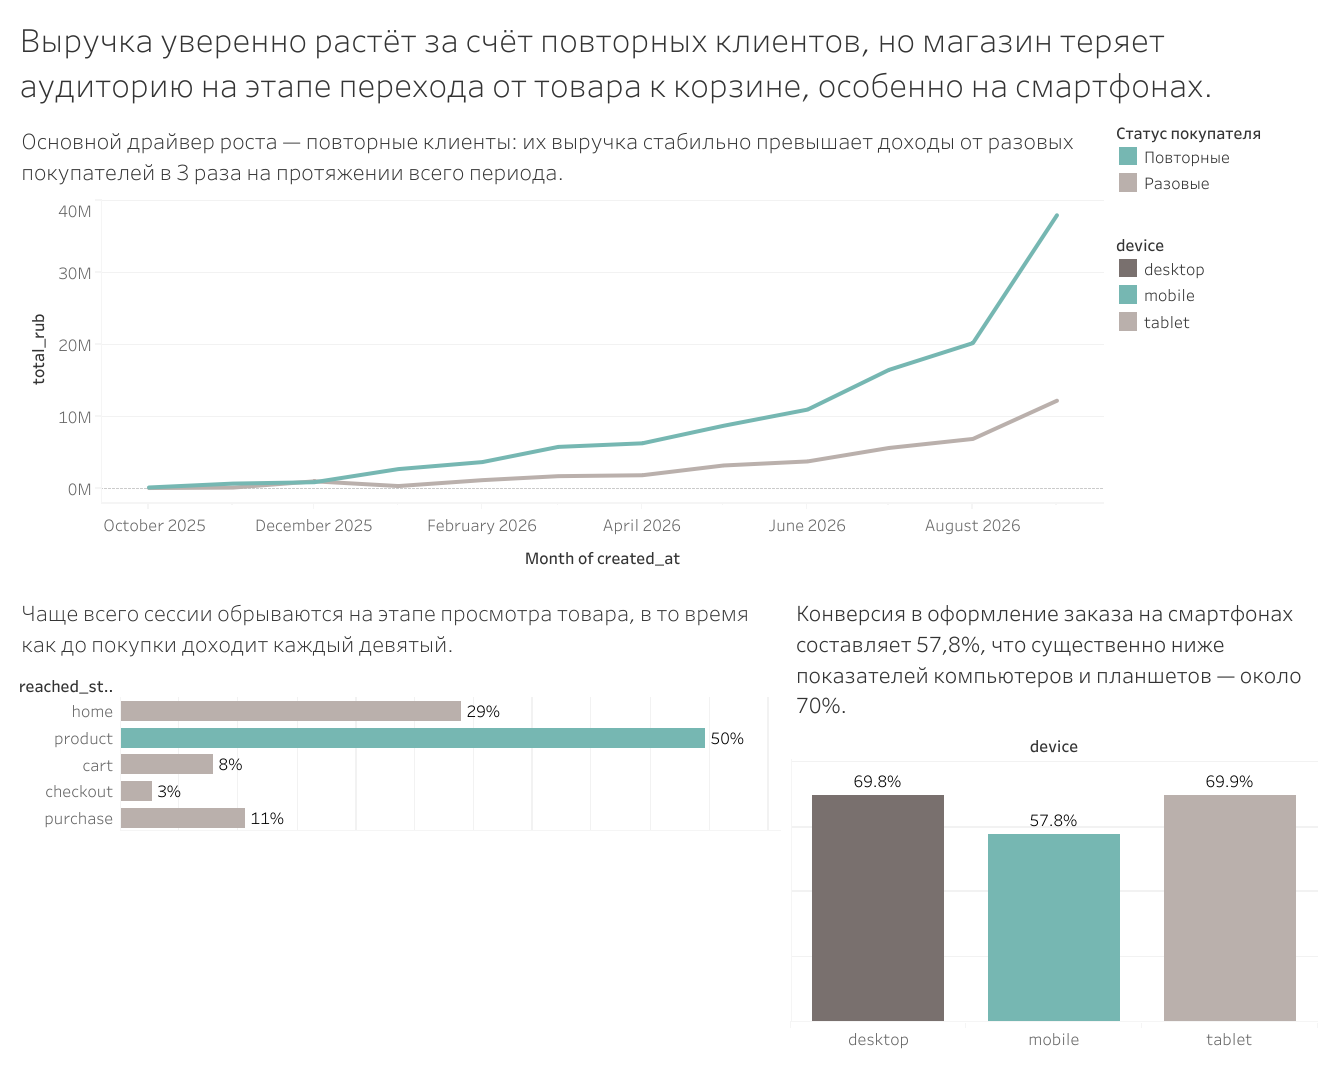

The dashboard page shown, as its layout file describes it:
{"tool":"tableau","page":{"name":"Итог","canvas":[1000,800],"ordinal":0},"visuals":[{"type":"title","box":[8,8,984,76]},{"type":"worksheet","title":"Выручка по статусу покупателя","mark":"Automatic","rows":["total_rub"],"cols":["created_at"],"box":[8,84,824,354]},{"type":"legend","title":"Выручка по статусу покупателя","param":"[federated.17698mu0s1xcfw1fnev2b0b7v54j].[none:Calculation_0014769372954629:nk]","box":[832,84,160,84]},{"type":"legend","title":"Конверсия в оформление с разных устройств","param":"[federated.17698mu0s1xcfw1fnev2b0b7v54j].[none:device:nk]","box":[832,168,160,270]},{"type":"worksheet","title":"Воронка визитов без накопления","mark":"Automatic","rows":["reached_step"],"cols":["sessions.csv_3B08125B03B64A609DE46FB65FCD290F"],"box":[8,438,581,354]},{"type":"worksheet","title":"Конверсия в оформление с разных устройств","mark":"Automatic","rows":["конверсия в покупку (copy)_0014769397796886"],"cols":["device"],"box":[589,438,403,354]}]}

Visuals, with their boxes in screenshot pixels (x1, y1, x2, y2), scaled from the page's 1000x800 canvas onto the 1332x1065 screenshot:
title: <bbox>11, 11, 1321, 112</bbox>
"Выручка по статусу покупателя" worksheet: <bbox>11, 112, 1108, 583</bbox>
"Выручка по статусу покупателя" legend: <bbox>1108, 112, 1321, 224</bbox>
"Конверсия в оформление с разных устройств" legend: <bbox>1108, 224, 1321, 583</bbox>
"Воронка визитов без накопления" worksheet: <bbox>11, 583, 785, 1054</bbox>
"Конверсия в оформление с разных устройств" worksheet: <bbox>785, 583, 1321, 1054</bbox>
